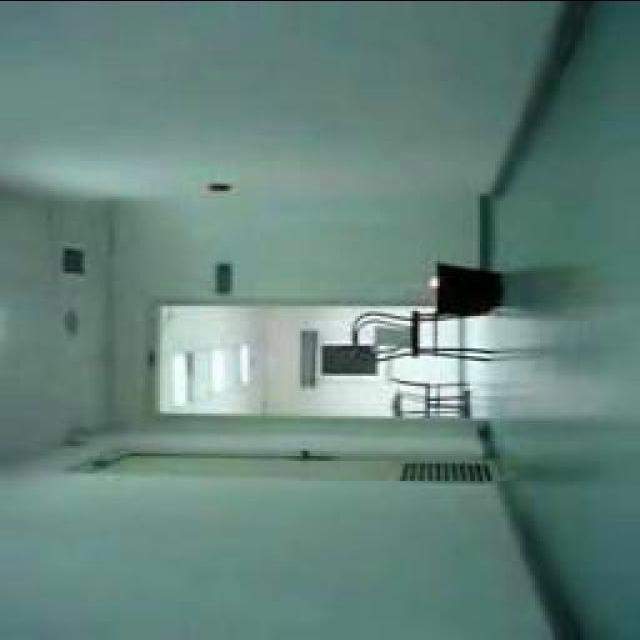Fire: (426, 268, 438, 291)
